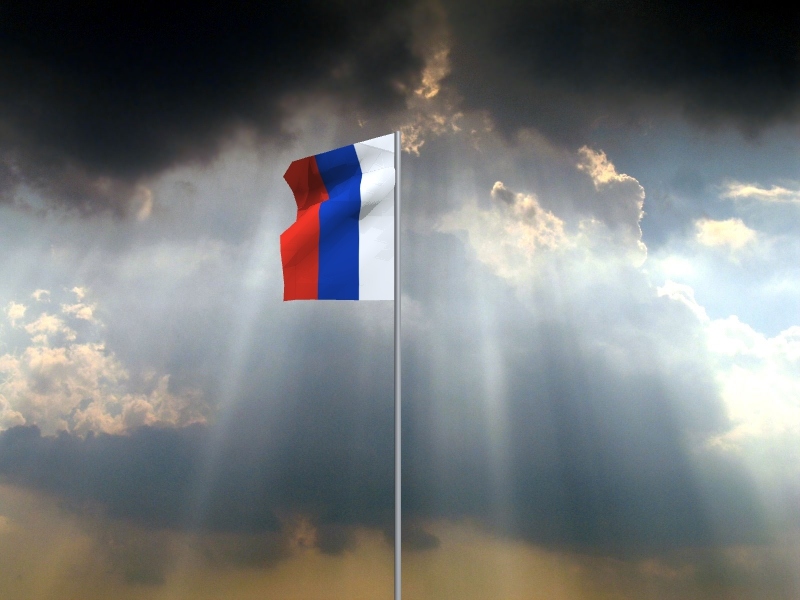ru: (280, 134, 395, 303)
